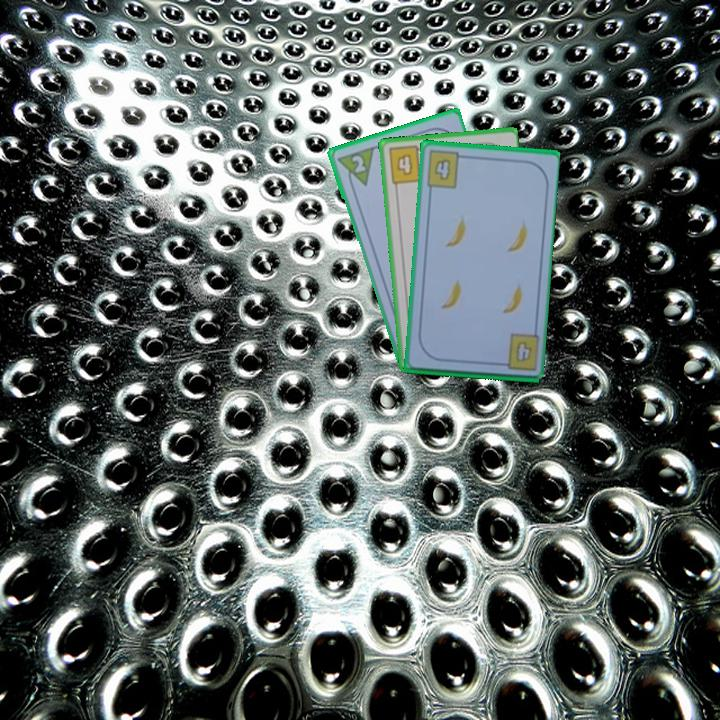2p: (333, 142, 377, 192)
4b: (422, 147, 468, 191), (385, 142, 428, 187), (512, 337, 535, 365)
